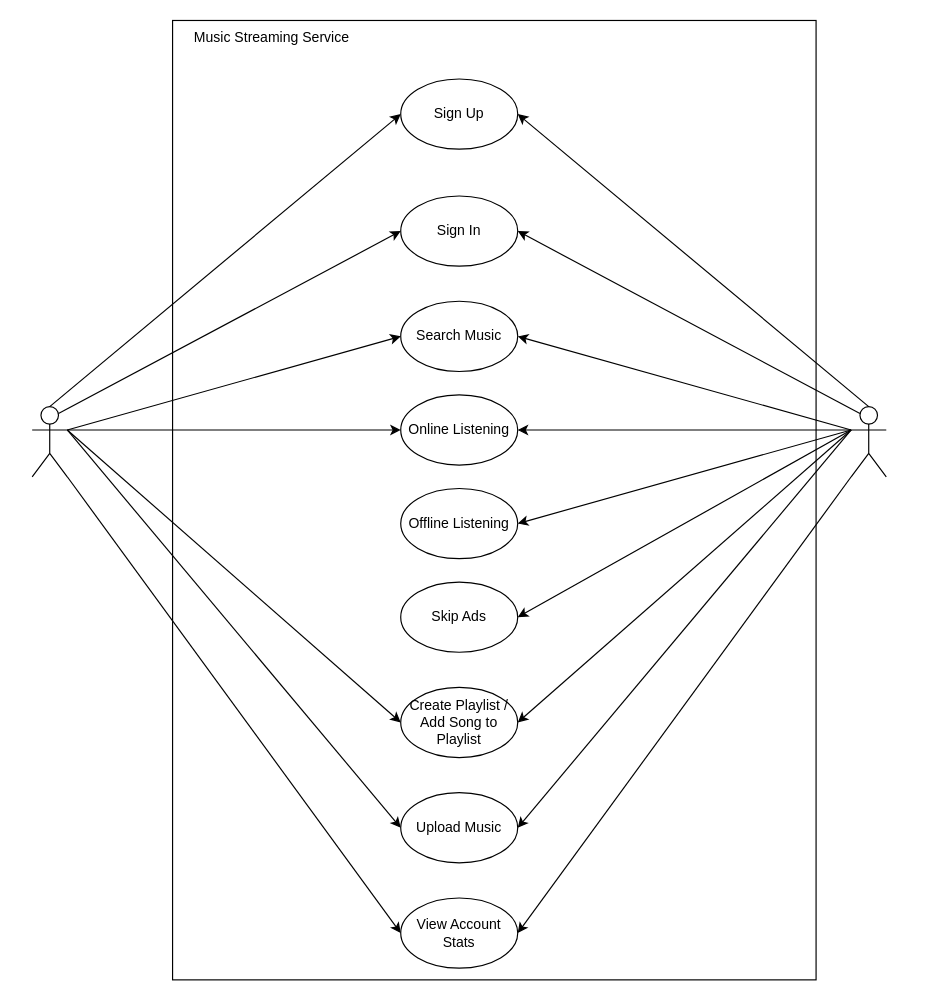
This 931x1000 diagram has some shape labels left out. The centre of each missing label's shape, as x and y in pixels:
"FreeUser" goes at point 49,441.
"PremiumUser" goes at point 868,441.
